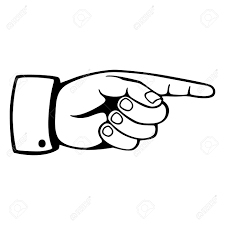hand: (54, 40, 223, 172)
